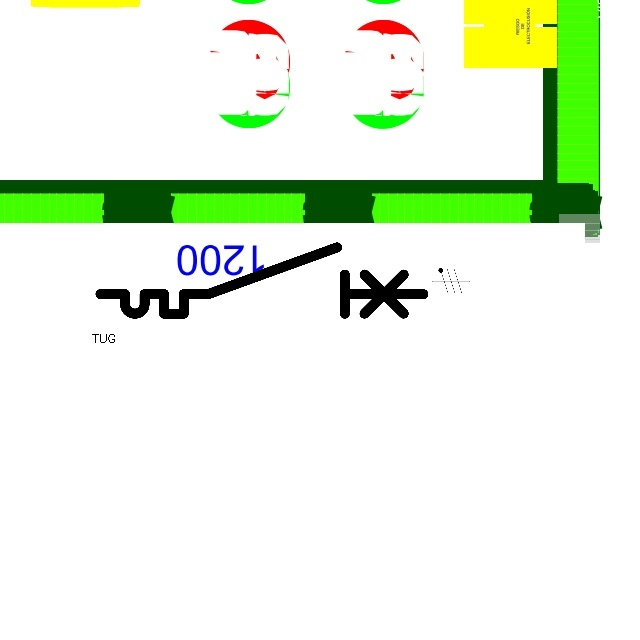interruptor_termomagnetico: (92, 239, 431, 322)
